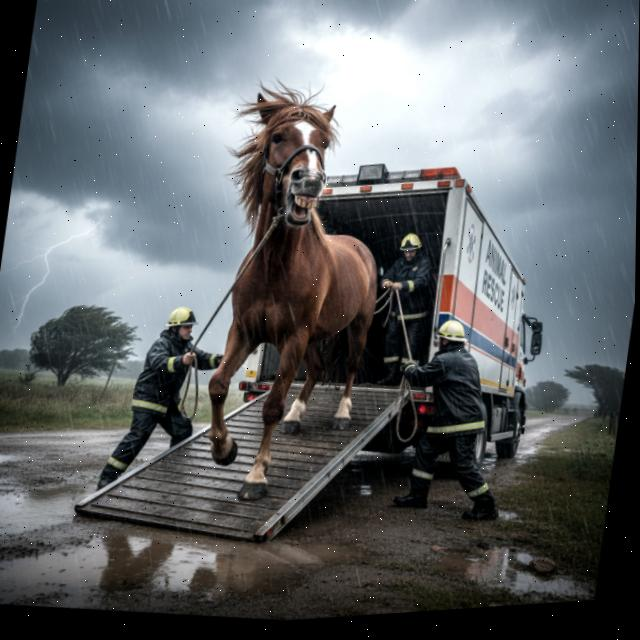horse: (180, 54, 416, 528)
rescuer: (365, 289, 531, 541), (88, 276, 241, 507), (364, 214, 452, 400)
